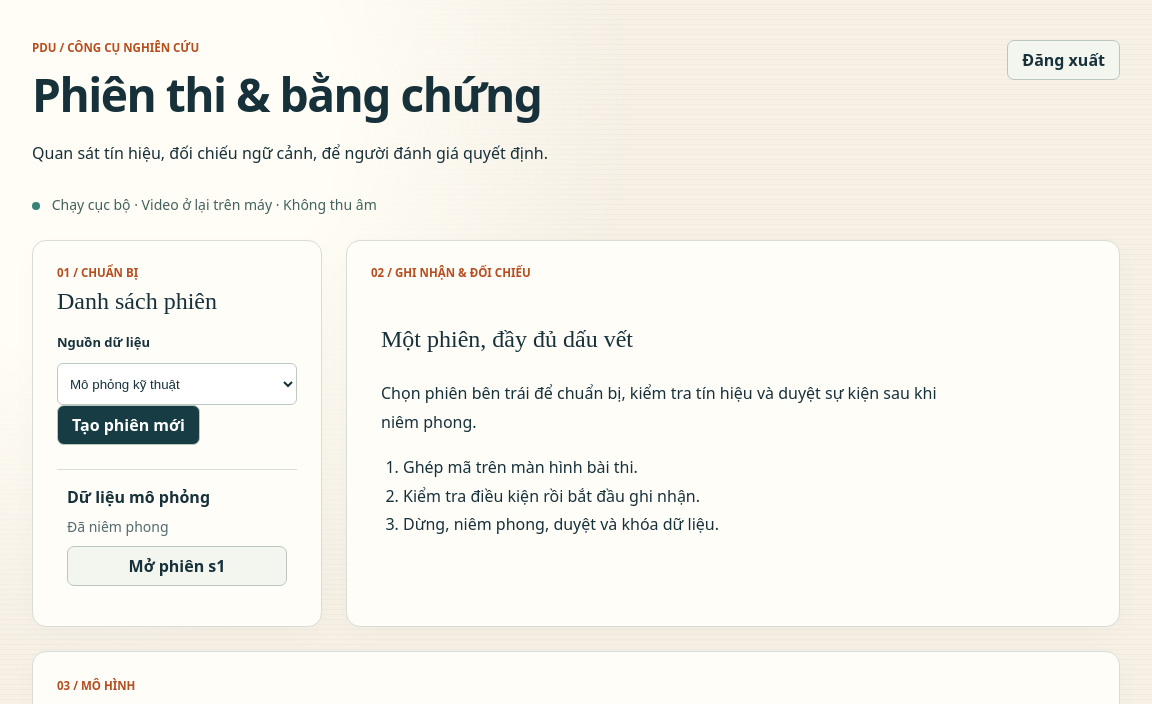
Test: research workspace › shows provenance and requires review before export
Check: the text "Dữ liệu mô phỏng" is shown, box left=67, top=486, right=210, bottom=508
Click the button "Mở phiên s1" at (177, 566), box left=67, top=546, right=287, bottom=586
(page scrolled)
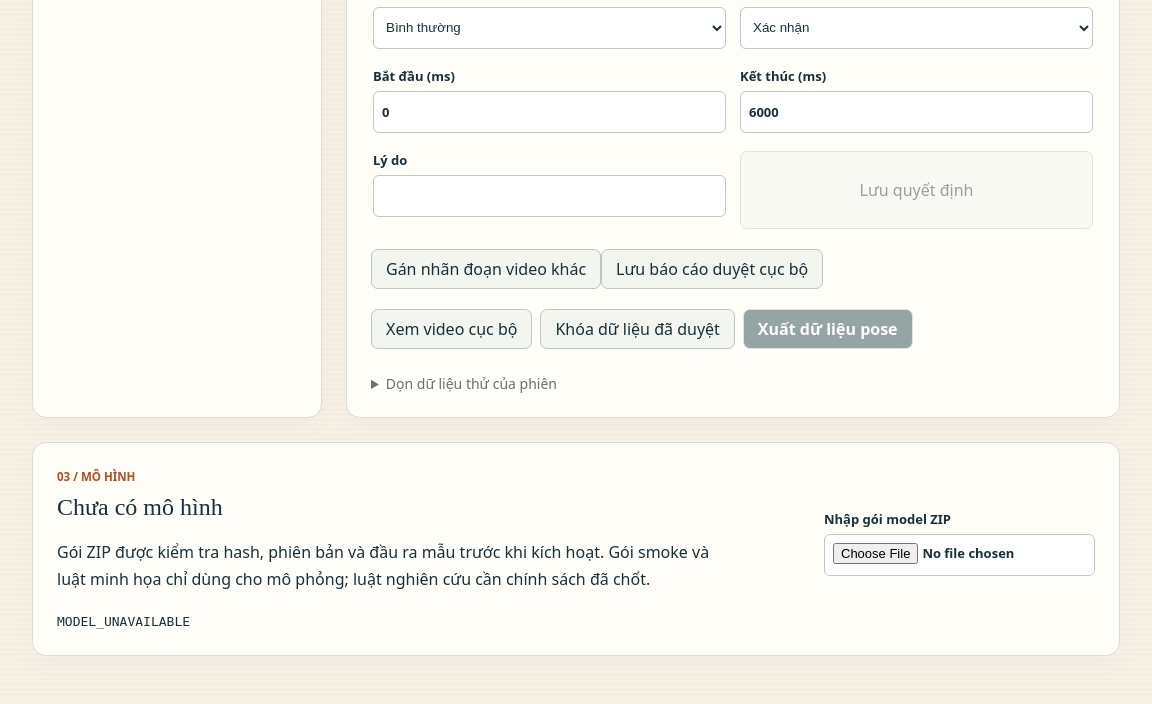
Check: the heading "Chưa có mô hình" is shown, box left=57, top=494, right=223, bottom=520
Check: the button "Xuất dữ liệu pose" is disabled, box left=743, top=308, right=912, bottom=348
